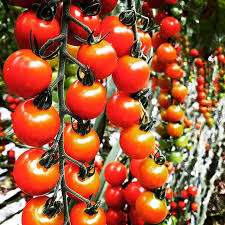tomato: (10, 99, 61, 149), (4, 49, 52, 100), (15, 9, 61, 57), (55, 2, 101, 48), (13, 147, 61, 191), (75, 37, 116, 79), (66, 78, 107, 120), (61, 125, 100, 166), (112, 55, 149, 97), (99, 16, 134, 56), (104, 92, 143, 127), (63, 164, 99, 200), (18, 197, 63, 225), (120, 126, 156, 160), (135, 192, 168, 221), (128, 23, 154, 59), (138, 157, 166, 188), (69, 203, 106, 223), (105, 161, 127, 185), (105, 185, 126, 210), (124, 183, 148, 204), (161, 16, 181, 38), (157, 43, 177, 64), (170, 82, 187, 101), (167, 105, 183, 122), (167, 123, 184, 138), (167, 62, 182, 78)
